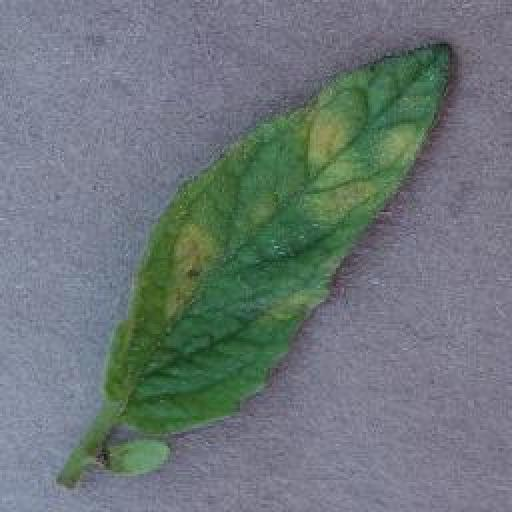Leaf Mold: (111, 37, 454, 432)
